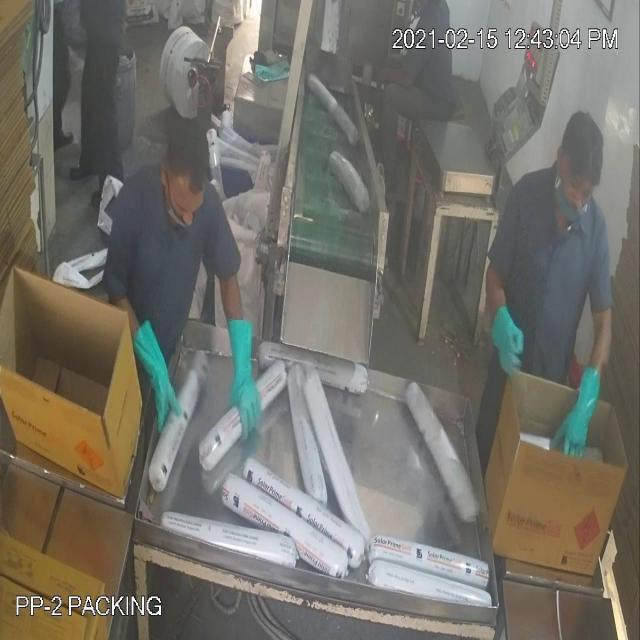Gloves: (40, 36, 575, 413)
